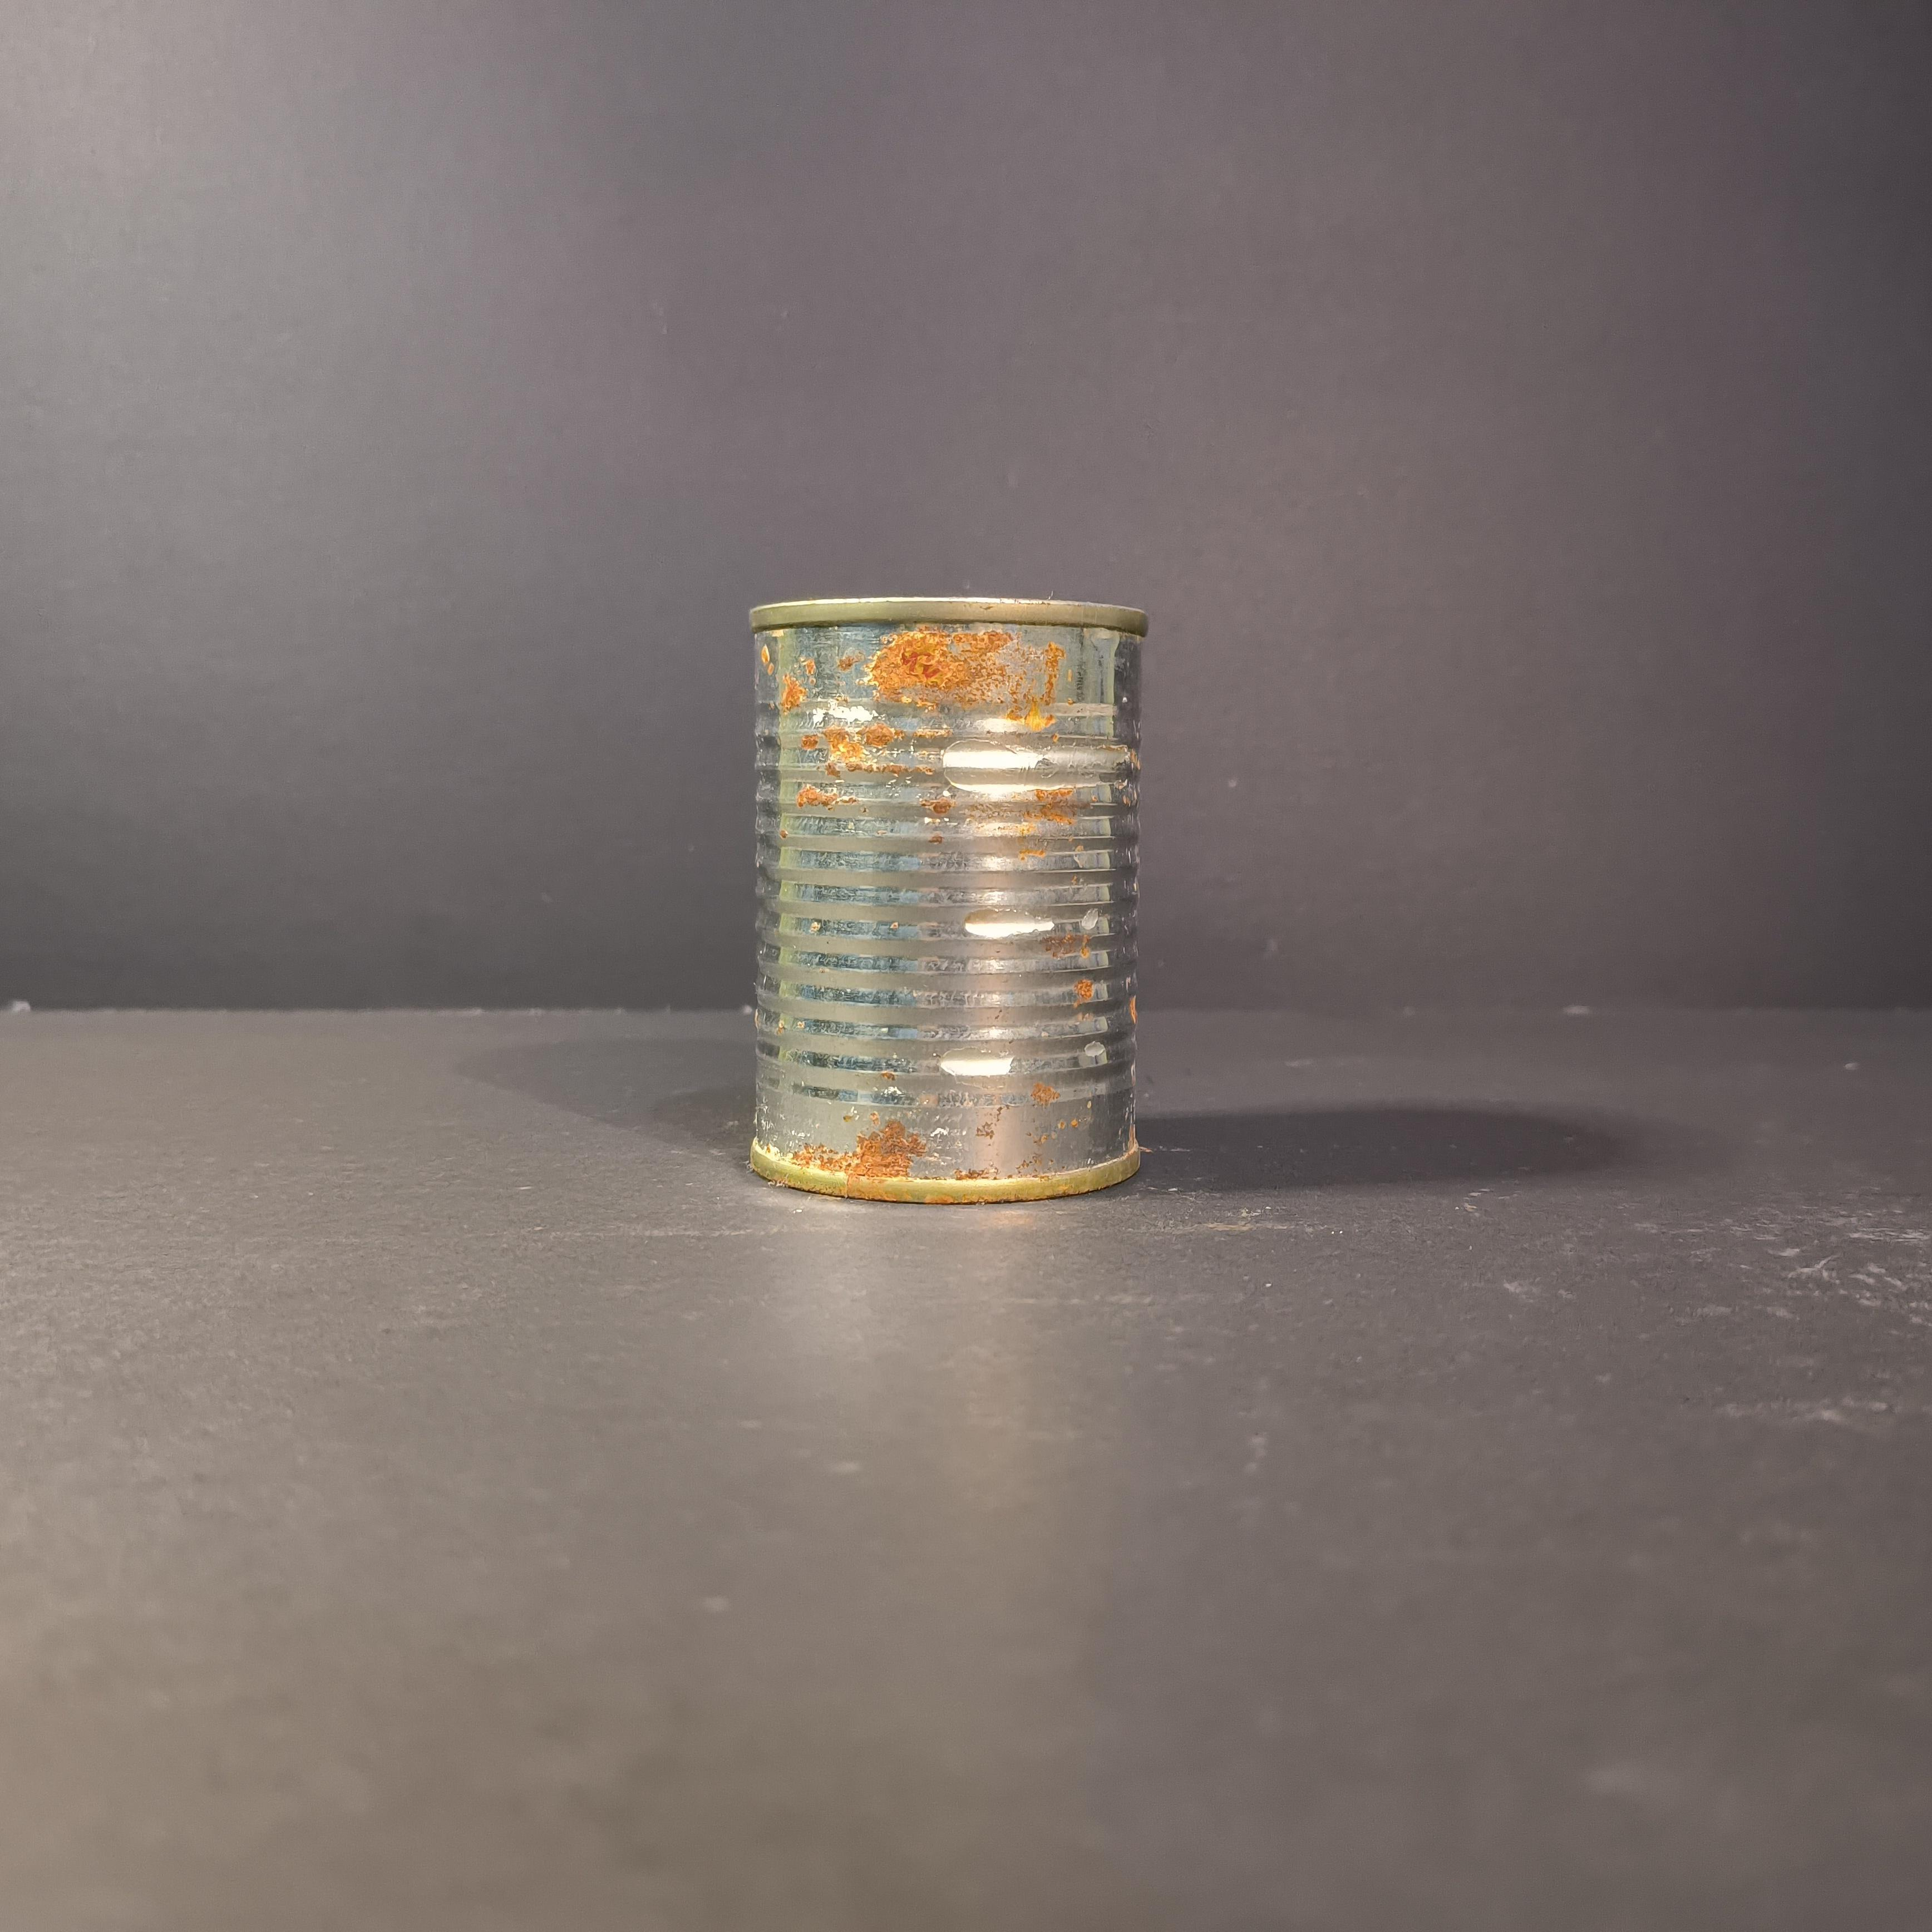Rusted: (734, 577, 1177, 1215)
